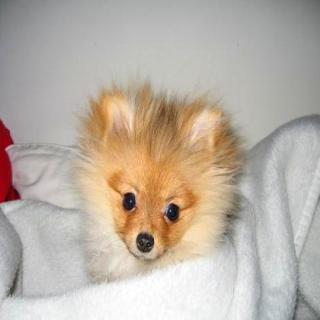dog: (75, 70, 242, 280)
nose: (134, 229, 158, 255)
